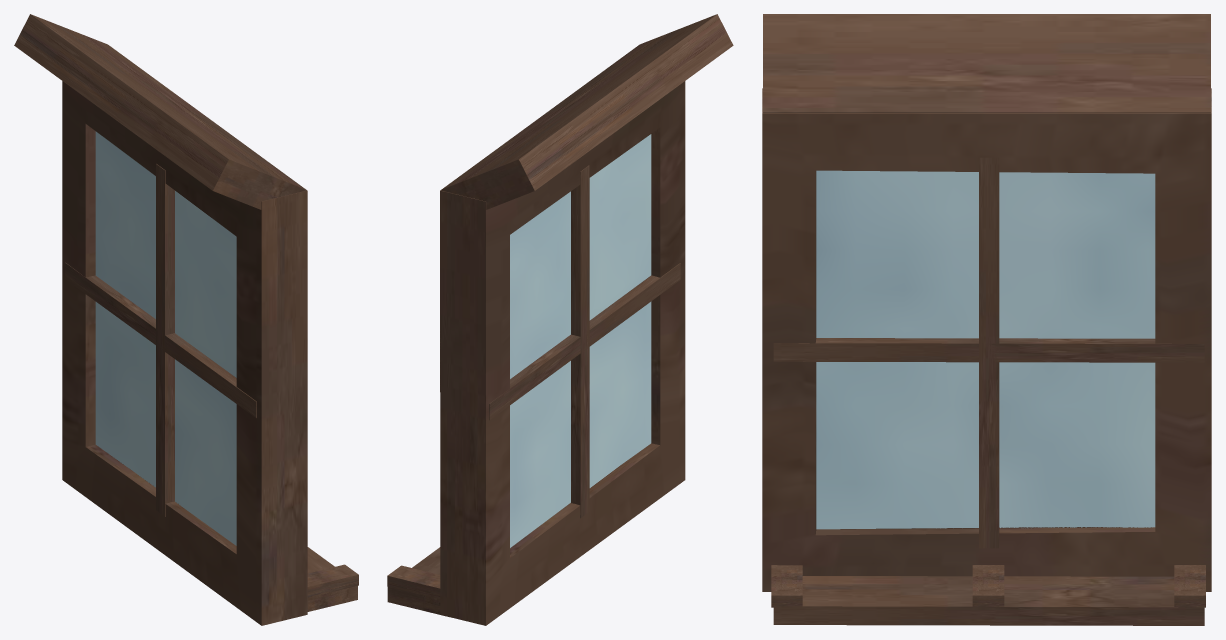
The model's file is window.fbx.
3 views of the same model, side by side, from view 1: azimuth 30°, elevation 25°; view 2: azimuth 150°, elevation 25°; view 3: azimuth 270°, elevation 25° (orthographic). The views are drawn at different scales.
Visible parts, largest first — view 1: Cube, Cube.001, Cube.008, Cube.002, Cube.005, Cube.007, Cube.006; view 2: Cube, Cube.001, Cube.008, Cube.002, Cube.005, Cube.006, Cube.007; view 3: Cube.001, Cube, Cube.008, Cube.006, Cube.005, Cube.002, Cube.007.
Part boxes in pixels (bbox=[...]): Cube: bbox=[62, 81, 307, 625]; Cube.001: bbox=[95, 131, 236, 545]; Cube.008: bbox=[14, 14, 306, 209]; Cube.002: bbox=[156, 164, 174, 516]; Cube.005: bbox=[65, 262, 256, 417]; Cube.007: bbox=[307, 564, 358, 597]; Cube.006: bbox=[307, 547, 357, 611]; Cube: bbox=[440, 81, 685, 625]; Cube.001: bbox=[510, 134, 651, 547]; Cube.008: bbox=[441, 14, 733, 209]; Cube.002: bbox=[571, 165, 589, 518]; Cube.005: bbox=[489, 263, 680, 420]; Cube.006: bbox=[387, 547, 445, 616]; Cube.007: bbox=[387, 565, 440, 599]; Cube.001: bbox=[816, 170, 1155, 529]; Cube: bbox=[762, 88, 1211, 591]; Cube.008: bbox=[763, 14, 1210, 112]; Cube.006: bbox=[773, 576, 1204, 625]; Cube.005: bbox=[773, 338, 1204, 362]; Cube.002: bbox=[979, 157, 999, 548]; Cube.007: bbox=[771, 565, 1205, 607].
Size of the model in its own units: 122 by 371 by 280.
Materials: 2 (2 with a texture image).
